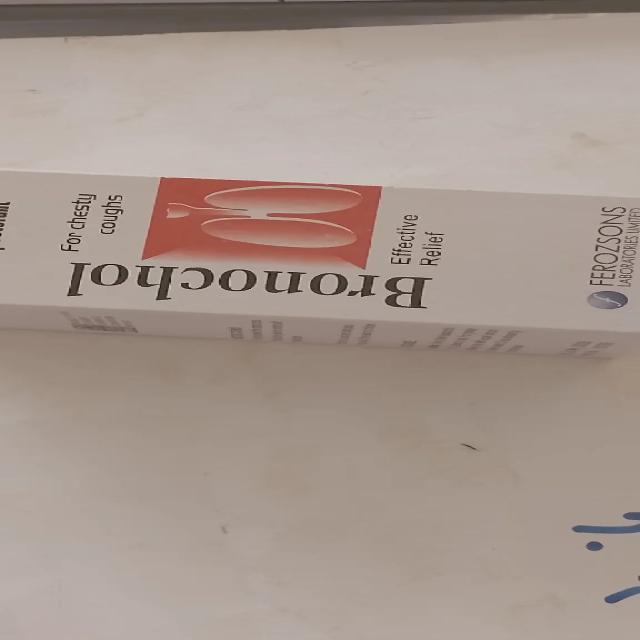drug-name: (51, 259, 440, 315)
